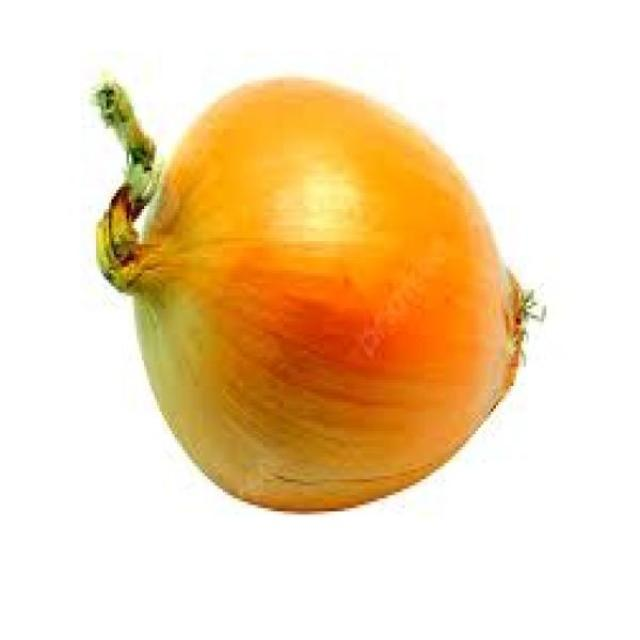Onion: (94, 77, 524, 516)
